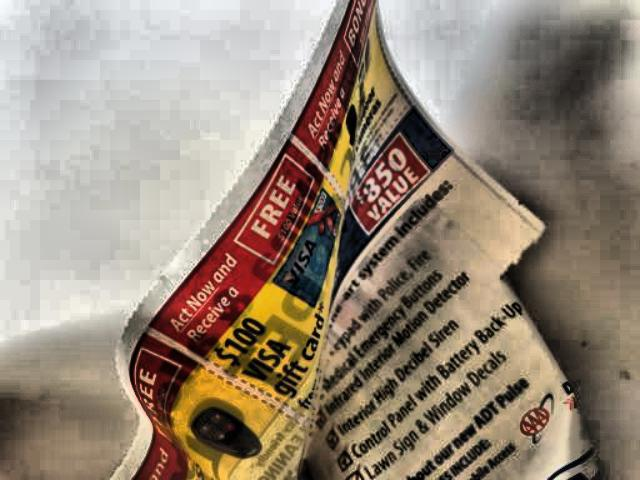Paper: (94, 0, 607, 480)
